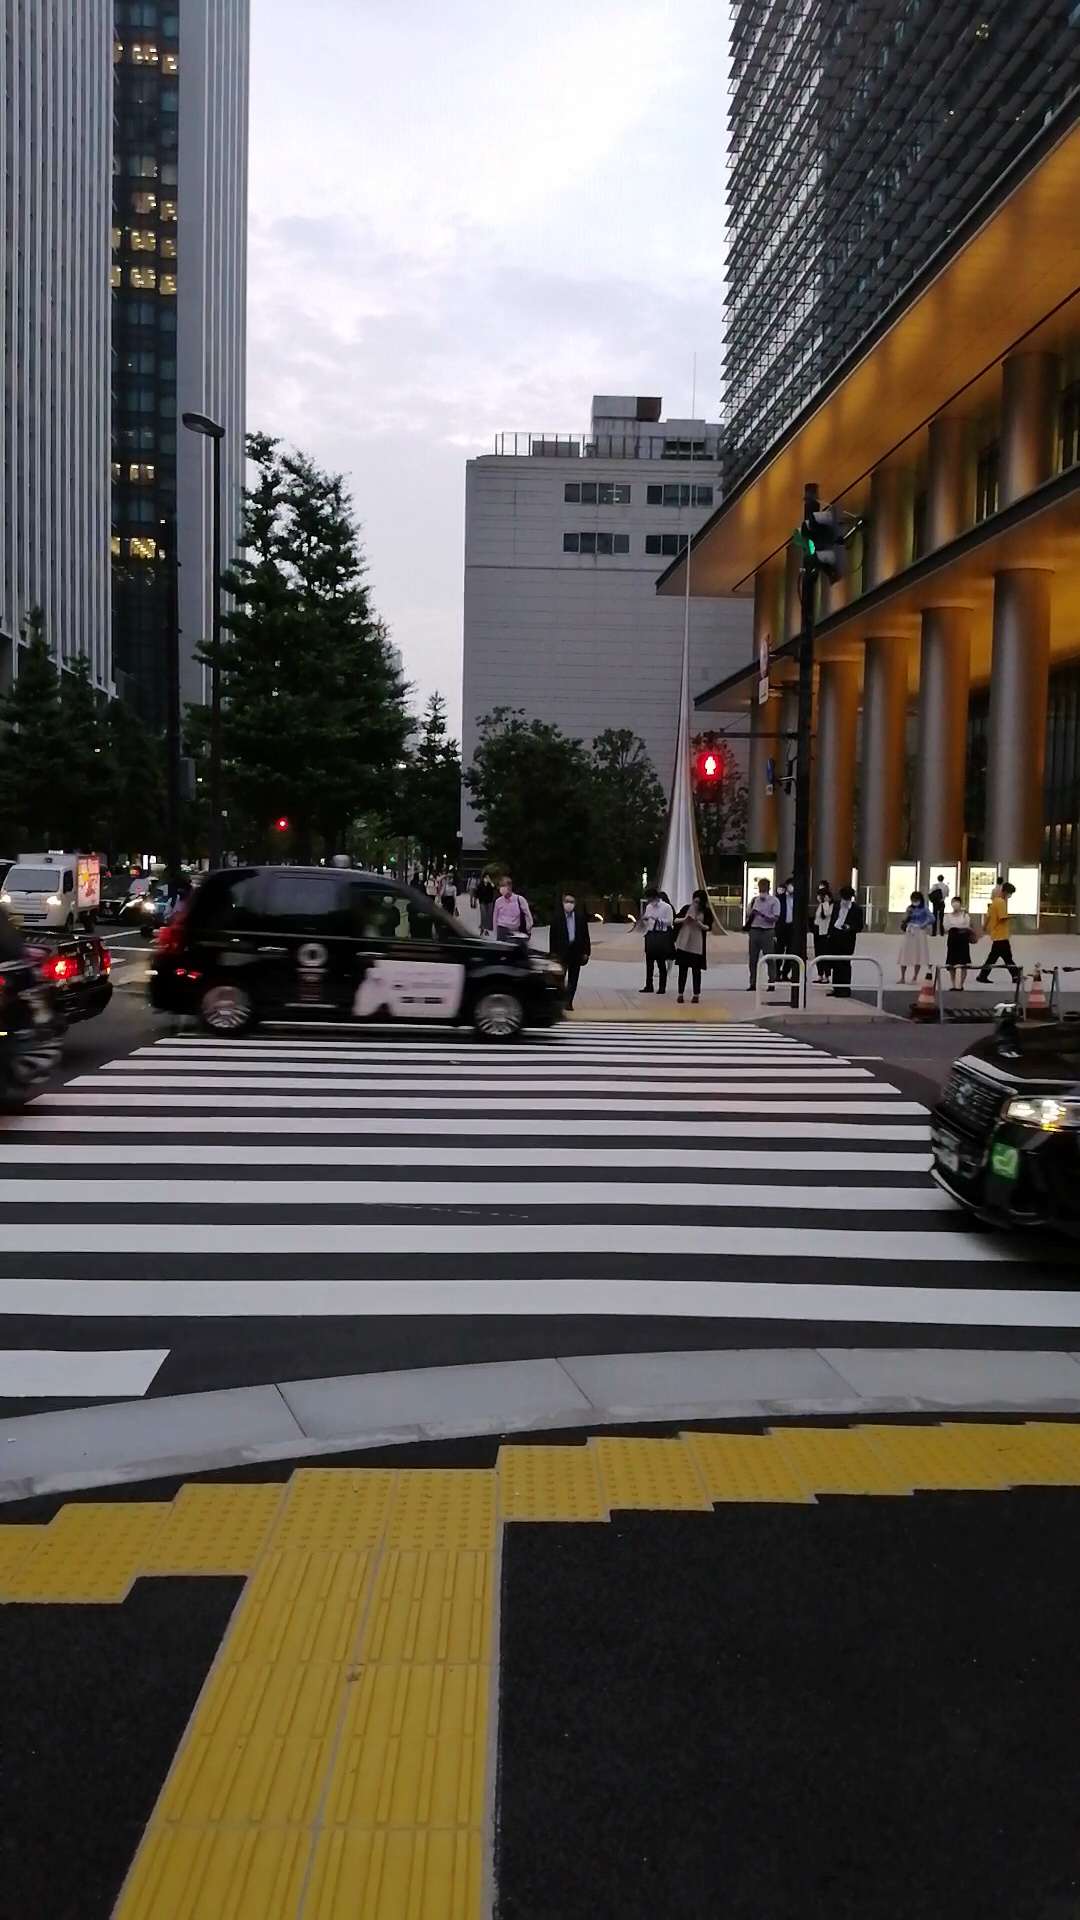red: (695, 750, 723, 802)
